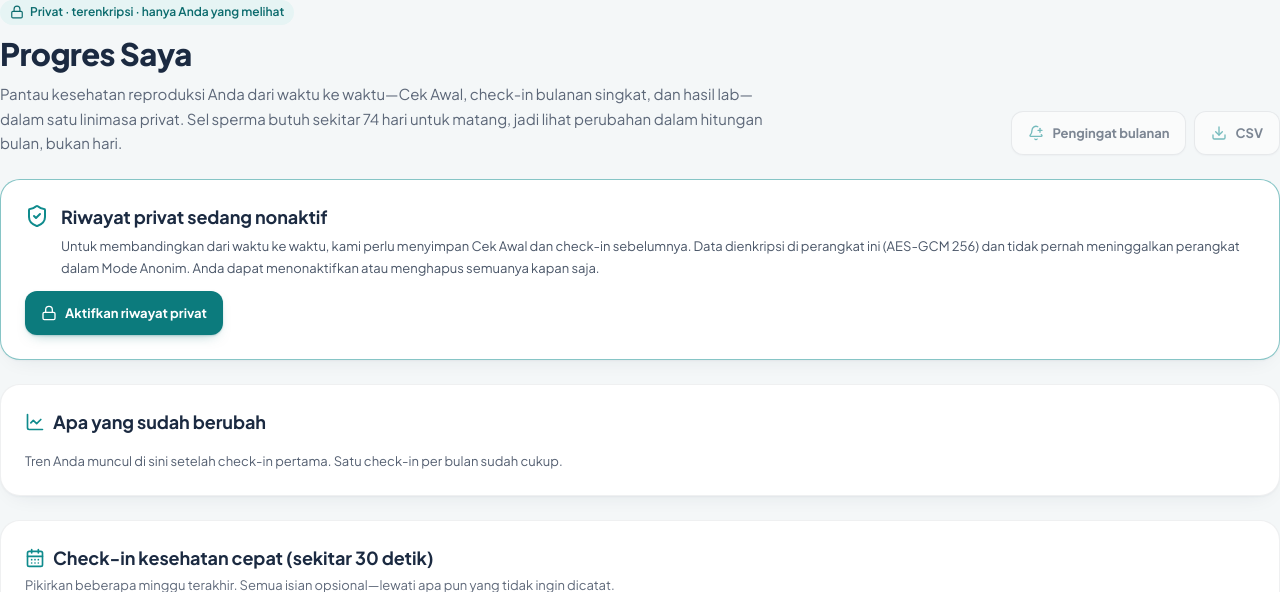
it: Reviewer feedback flows (UI) › Feedback #3: private progress needs opt-in, then charts trends and offers support when stress is high
The image size is (1280, 592).
Check: the heading "Riwayat privat sedang nonaktif" is shown, box [61,205,328,228]
Click the button "Aktifkan riwayat privat" at (124, 313), box [25,291,223,335]
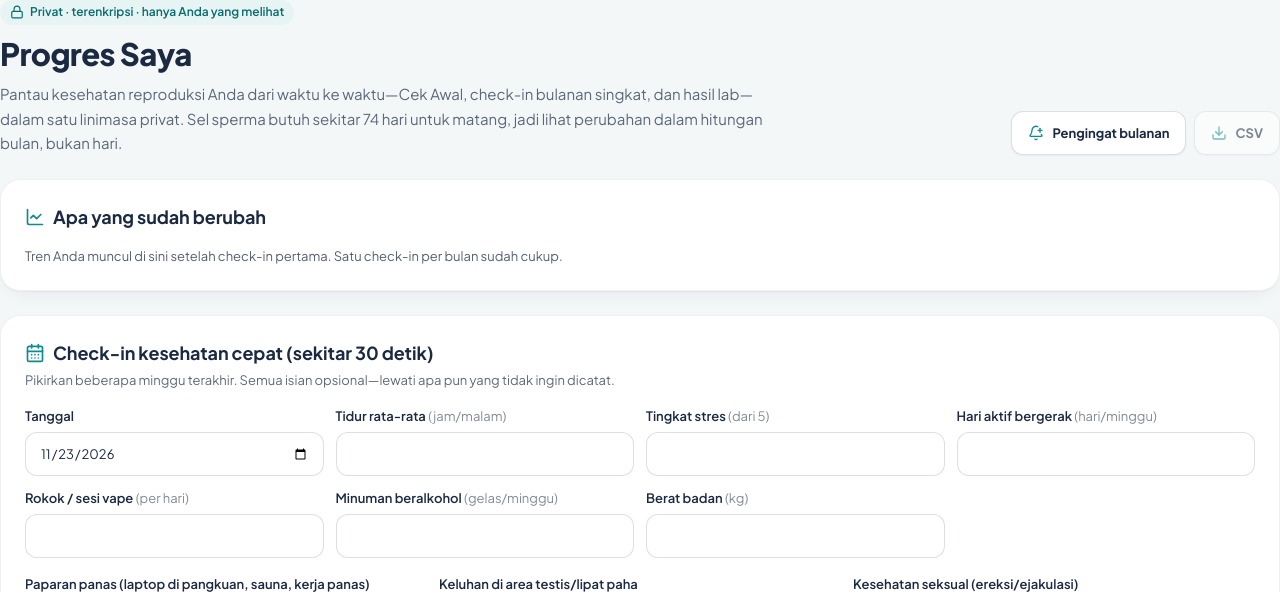
Check: the heading "Riwayat privat sedang nonaktif" is gone
Type "2026-09-01" into the date field labelled "Tanggal" at (174, 454), box [25,432,324,476]
Type "5.5" into the number field labelled "Tidur rata-rata (jam/malam)" at (485, 454), box [336,432,634,476]
(page scrolled)
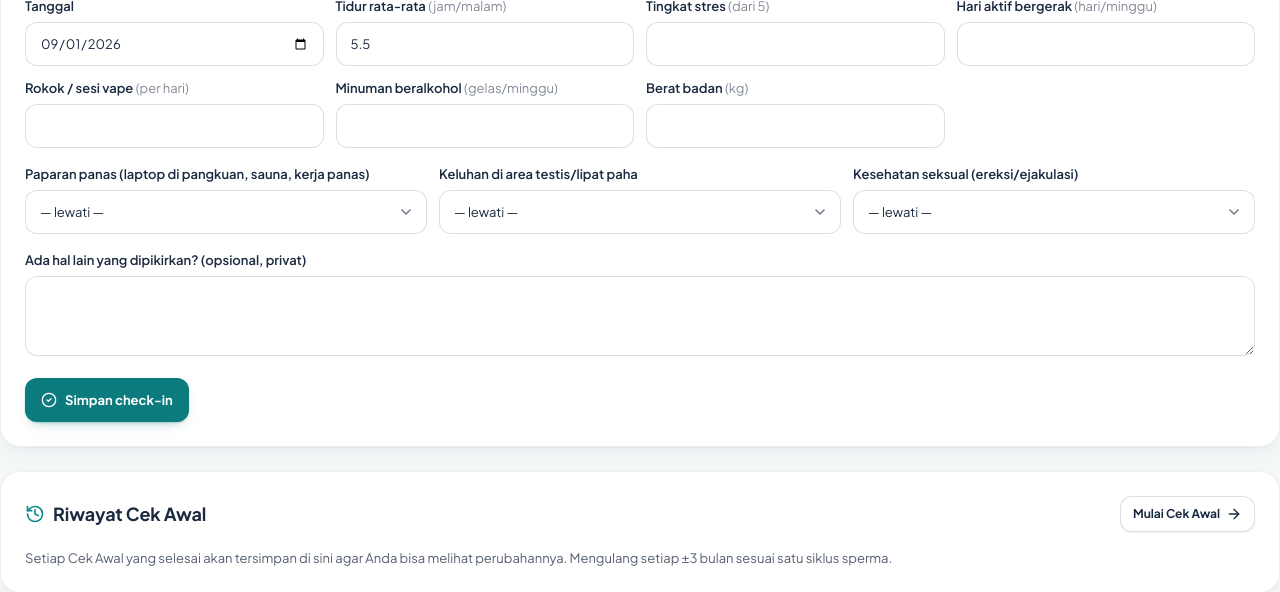
Click the button "Simpan check-in" at (107, 400), box [25,378,189,422]
(page scrolled)
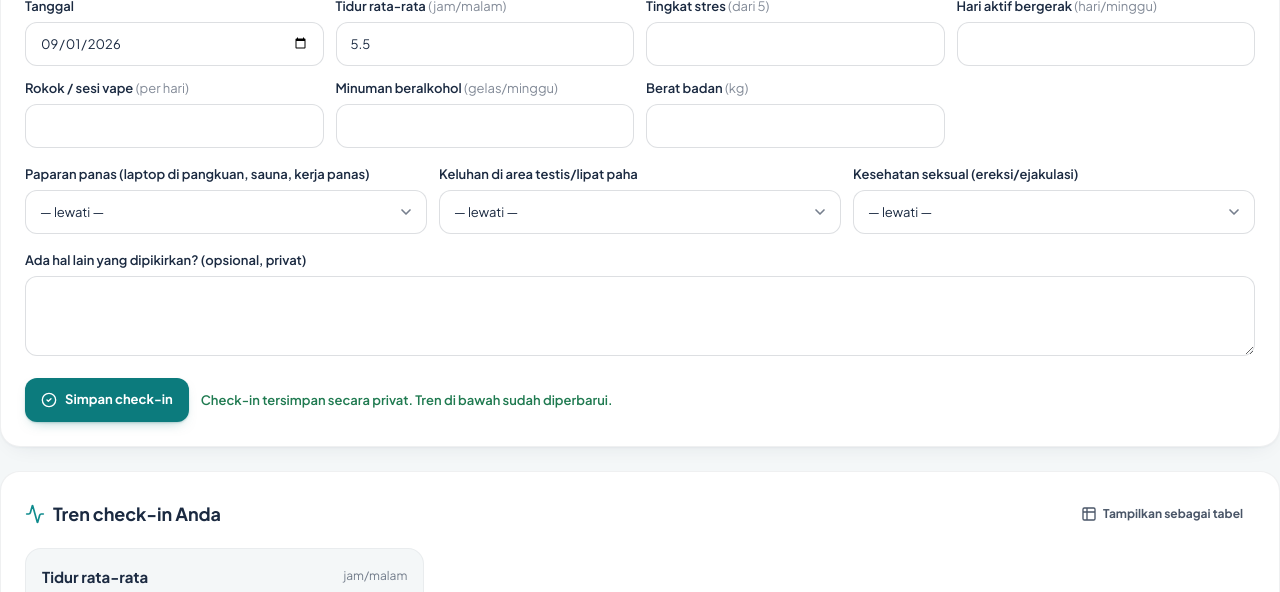
Check: the text "Check-in tersimpan secara privat. Tren di bawah sudah diperbarui." is shown, box [201,390,613,410]
Type "2026-11-01" into the date field labelled "Tanggal" at (174, 44), box [25,22,324,66]
Replace the text in the number field labelled "Tidur rata-rata (jam/malam)" with "7.5" at (485, 44), box [336,22,634,66]
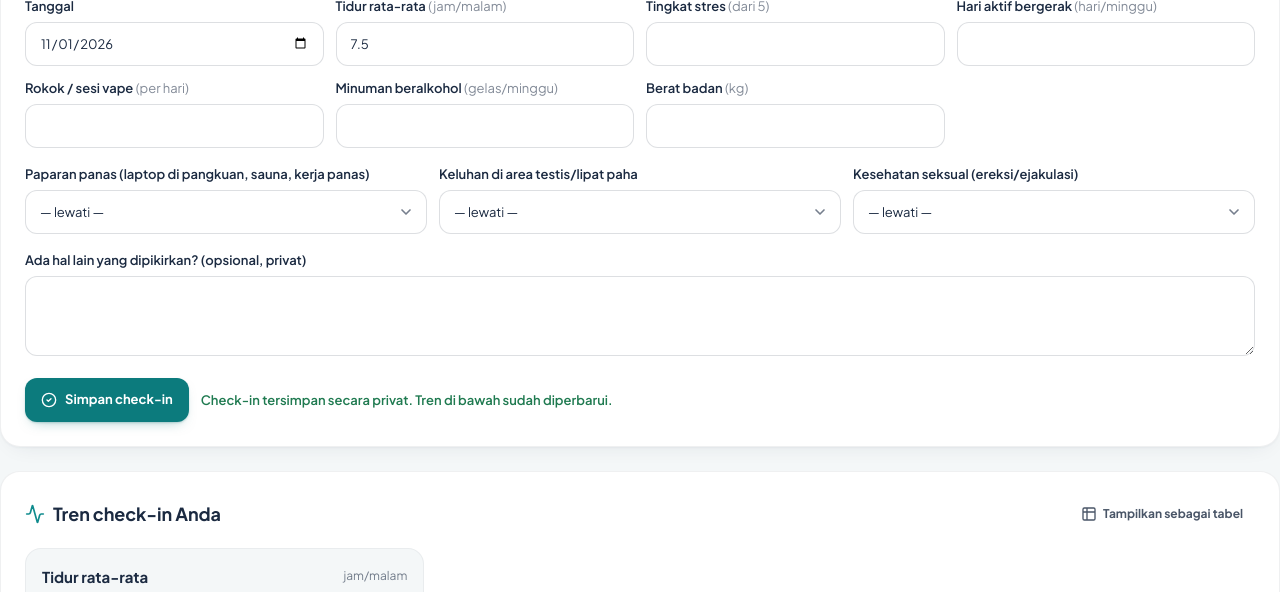
Type "5" into the number field labelled "Tingkat stres (dari 5)" at (795, 44), box [646,22,944,66]
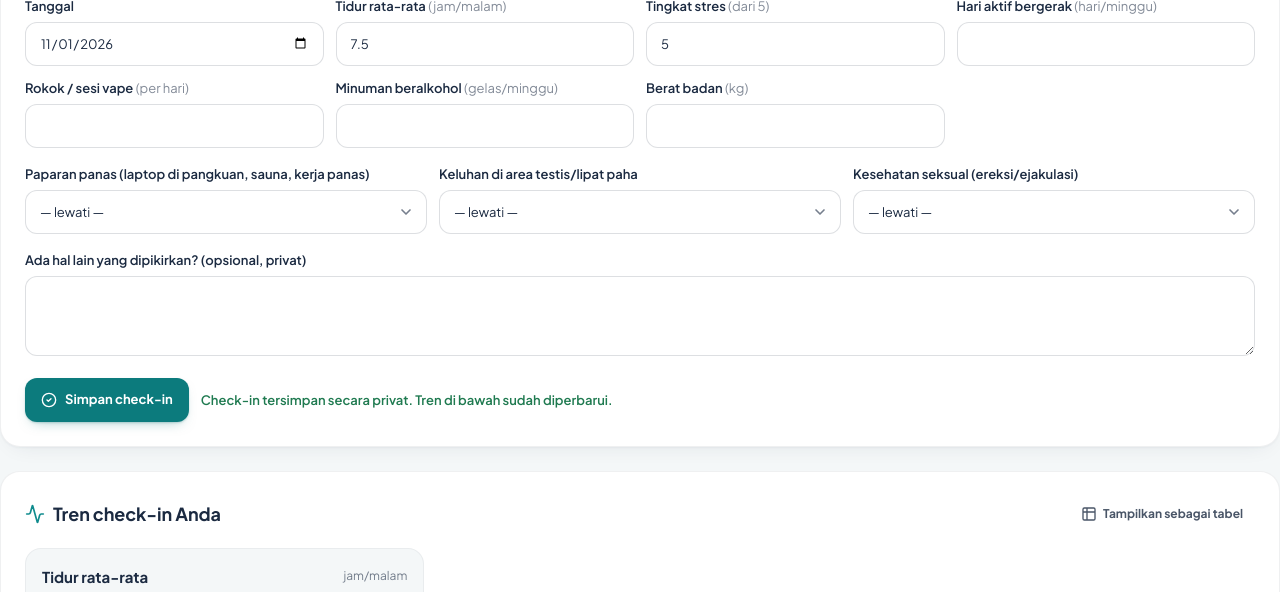
Click the button "Simpan check-in" at (107, 400), box [25,378,189,422]
(page scrolled)
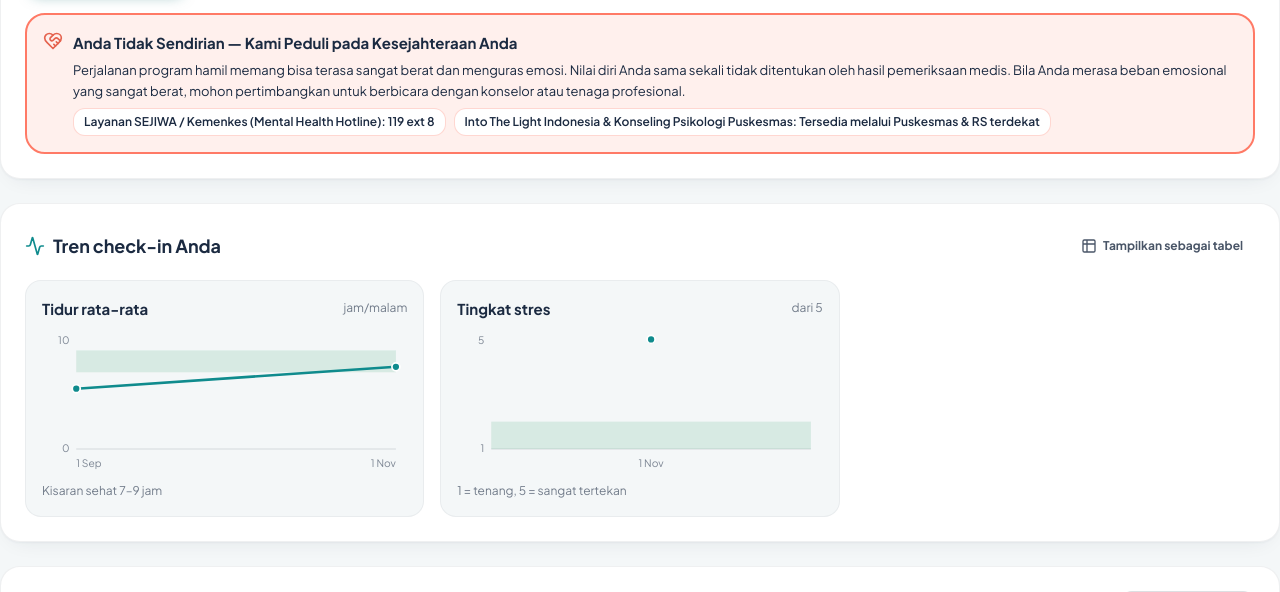
Check: the message shows "119 ext 8", box [388,114,435,129]
Check: the picture named "Tidur rata-rata: 5.5 → 7.5" is shown, box [42,328,407,474]
